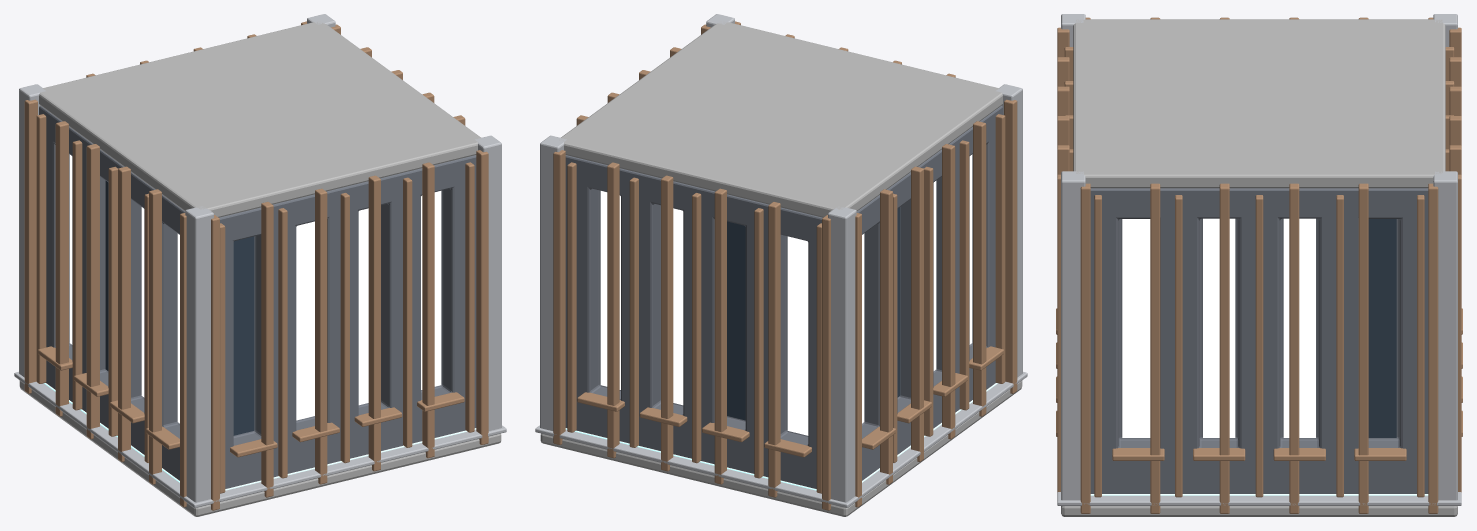
File: deco_3x3.glb
3 views of the same model, side by side, from view 1: azimuth 30°, elevation 25°; view 2: azimuth 150°, elevation 25°; view 3: azimuth 270°, elevation 25° (orthographic). The views are drawn at different scales.
Visible parts, largest first — view 1: int_ceiling, ext_wall, ext_ribs, ext_frames, int_columns, ext_panes_lit, ext_panes_dark, int_slab_edge, int_slab, int_grid; view 2: int_ceiling, ext_wall, ext_ribs, ext_frames, int_columns, ext_panes_lit, int_slab_edge, ext_panes_dark, int_slab, int_grid; view 3: int_ceiling, ext_wall, ext_ribs, ext_panes_lit, ext_frames, int_columns, ext_panes_dark, int_slab, int_slab_edge, int_grid.
Part boxes in pixels (x1,y1,x2,y2): int_ceiling: (39,22,480,217); ext_wall: (39,105,476,488); ext_ribs: (24,21,488,510); ext_frames: (36,114,474,493); int_columns: (19,14,501,502); ext_panes_lit: (69,154,441,423); ext_panes_dark: (105,181,254,435); int_slab_edge: (14,372,506,507); int_slab: (19,380,501,516); int_grid: (44,383,476,490); int_ceiling: (559,22,1002,217); ext_wall: (565,105,1002,488); ext_ribs: (553,21,1017,510); ext_frames: (567,114,1005,493); int_columns: (540,14,1022,502); ext_panes_lit: (600,154,972,435); int_slab_edge: (535,372,1027,507); ext_panes_dark: (727,207,900,420); int_slab: (540,380,1022,516); int_grid: (565,383,997,490); int_ceiling: (1073,19,1445,188); ext_wall: (1090,188,1428,493); ext_ribs: (1057,17,1461,513); ext_panes_lit: (1122,218,1315,437); ext_frames: (1056,47,1462,497); int_columns: (1061,14,1457,500); ext_panes_dark: (1368,219,1396,437); int_slab: (1061,506,1457,516); int_slab_edge: (1057,492,1461,505); int_grid: (1090,494,1428,495).
Size of the model in its own units: 3.28 by 3 by 3.28.
